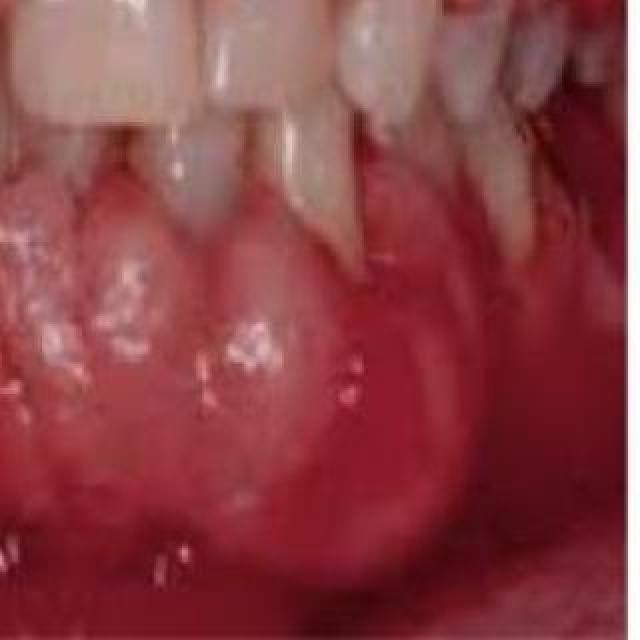spacing: (0, 0, 72, 98)
